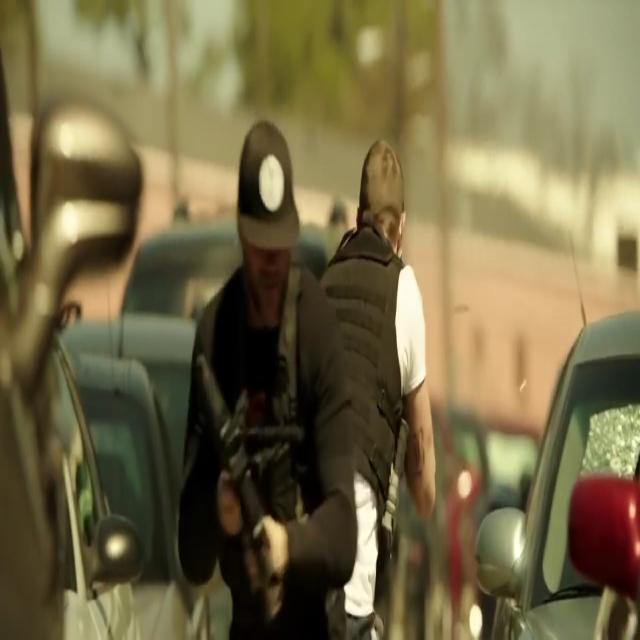Weapon: (195, 346, 291, 621)
